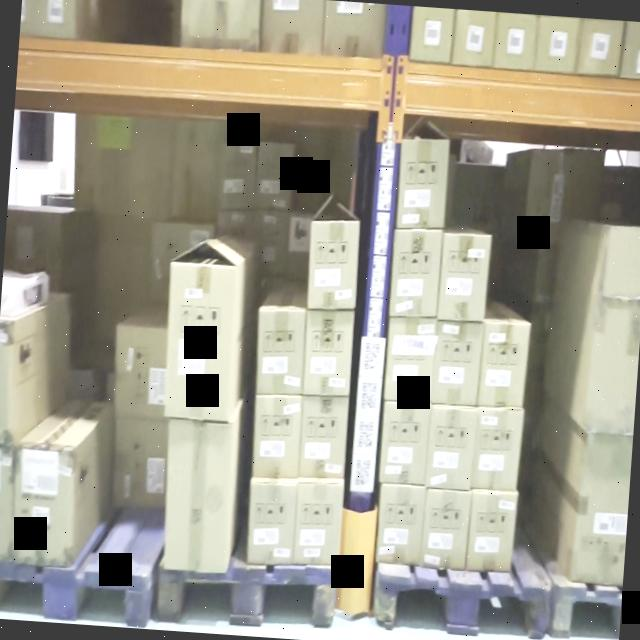box: (166, 262, 238, 420), (163, 420, 236, 573), (12, 451, 73, 562), (113, 328, 170, 416), (111, 418, 169, 504), (391, 228, 442, 318), (307, 224, 360, 308), (470, 407, 522, 490), (304, 309, 353, 397), (254, 311, 306, 393), (397, 144, 448, 226), (440, 233, 488, 320), (299, 394, 348, 479), (250, 398, 302, 478), (432, 321, 482, 404), (248, 482, 297, 566), (479, 321, 526, 406), (386, 319, 434, 402), (292, 486, 342, 564), (379, 404, 428, 482), (426, 408, 473, 488), (467, 492, 514, 572), (422, 490, 471, 566), (378, 484, 422, 562), (256, 144, 293, 208), (220, 147, 256, 206)
